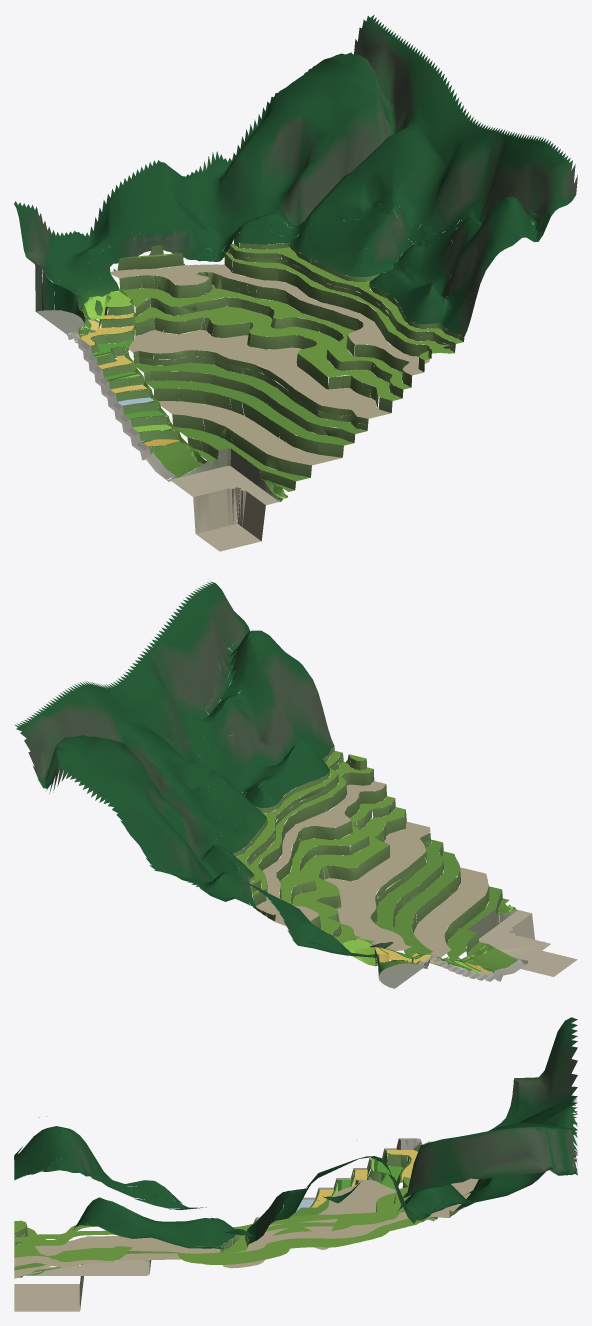
Rendered from payo_land_xm1_ym1_lod2.glb.
The picture shows the model from 3 angles, top to bottom: view 1: azimuth 30°, elevation 25°; view 2: azimuth 150°, elevation 25°; view 3: azimuth 270°, elevation 25°; orthographic projection. The views are drawn at different scales.
Visible parts, largest first — view 1: payo_land_xm1_ym1; view 2: payo_land_xm1_ym1; view 3: payo_land_xm1_ym1.
Part boxes in pixels (left/top/right/bottom): payo_land_xm1_ym1: left=14, top=14, right=577, bottom=551; payo_land_xm1_ym1: left=14, top=581, right=577, bottom=988; payo_land_xm1_ym1: left=14, top=1017, right=577, bottom=1311.
Size of the model in its own units: 258 by 206 by 258.
